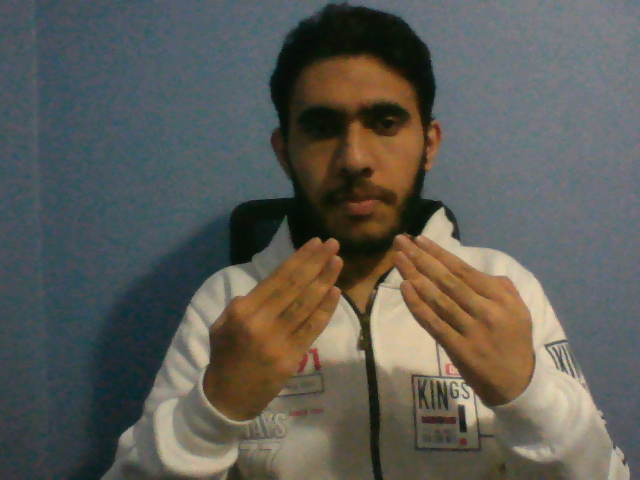thanks: (204, 228, 539, 436)
